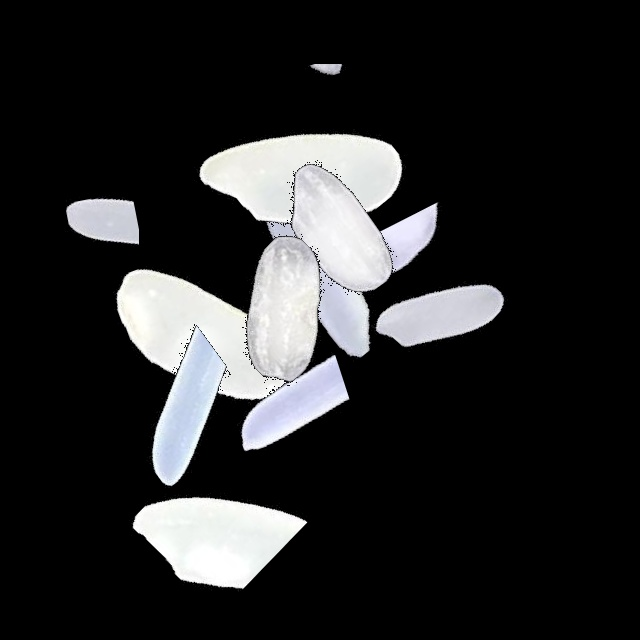Broken: (74, 423, 324, 596), (85, 294, 246, 544), (152, 332, 402, 472), (361, 153, 485, 403), (16, 110, 139, 360), (321, 225, 415, 475), (186, 115, 436, 195), (209, 112, 287, 362), (195, 64, 445, 141)
Full: (80, 206, 330, 456), (193, 146, 443, 396), (313, 188, 563, 438), (180, 46, 430, 296), (210, 103, 460, 353), (159, 183, 409, 433)
